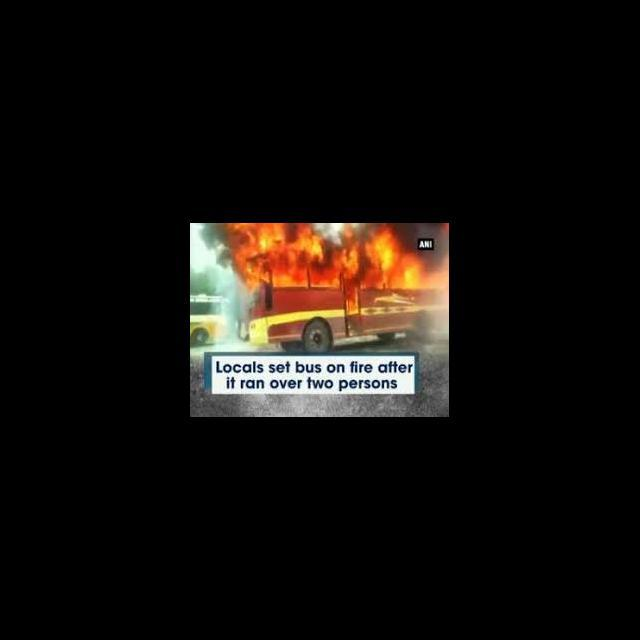Fire: (216, 223, 448, 291)
